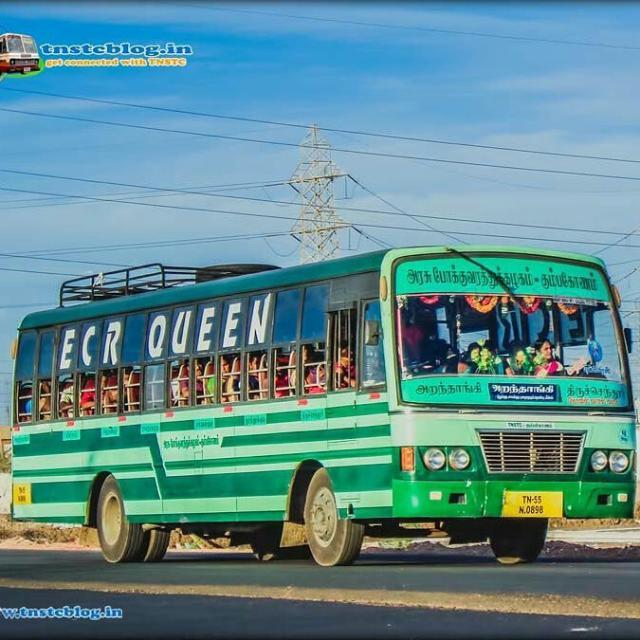Bus: (6, 243, 640, 568)
